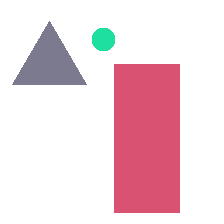circle: (92, 28, 114, 50)
rectangle: (114, 64, 179, 212)
triangle: (12, 21, 86, 84)
